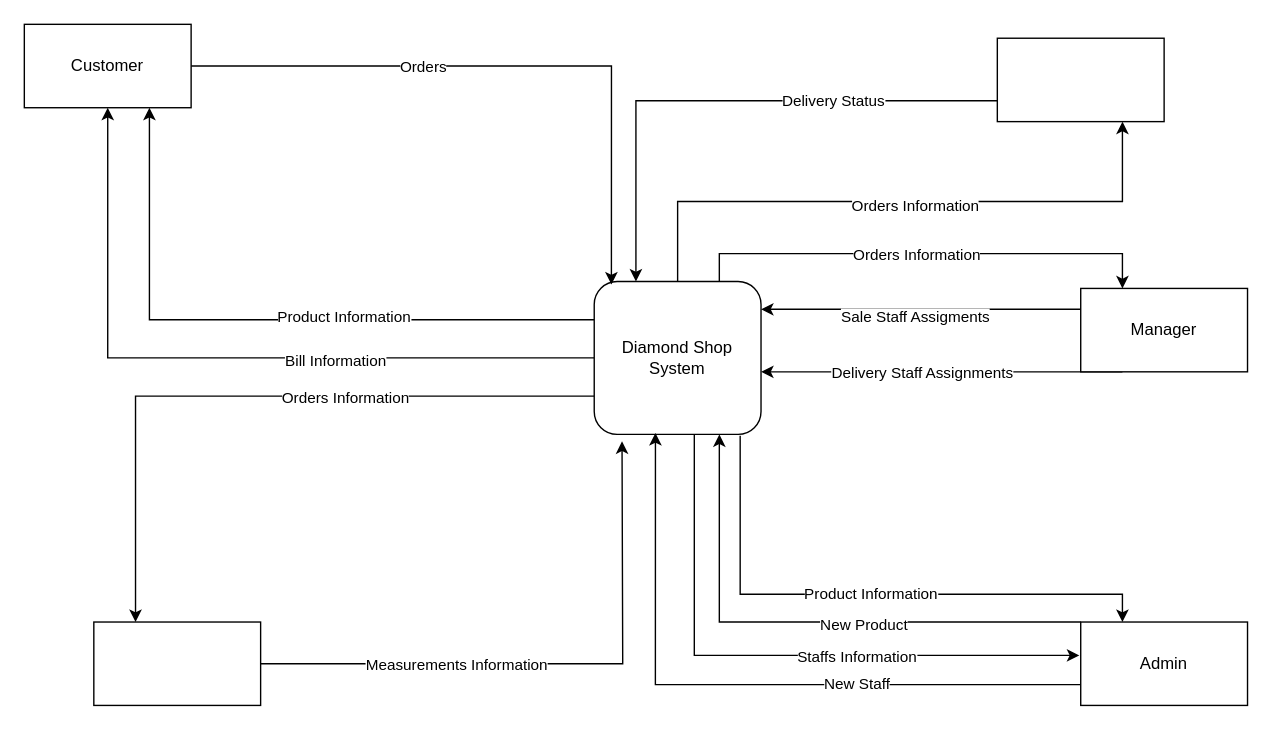
Some shapes in this 1272 by 730 pixel diagram are drawn without their labels. The shapes that lost their labels are listed below. From the top down, each one's centre as x and y in pixels, then its label:
At (1080,79): "Delivery Staff".
At (176,663): "Sale Staff".
